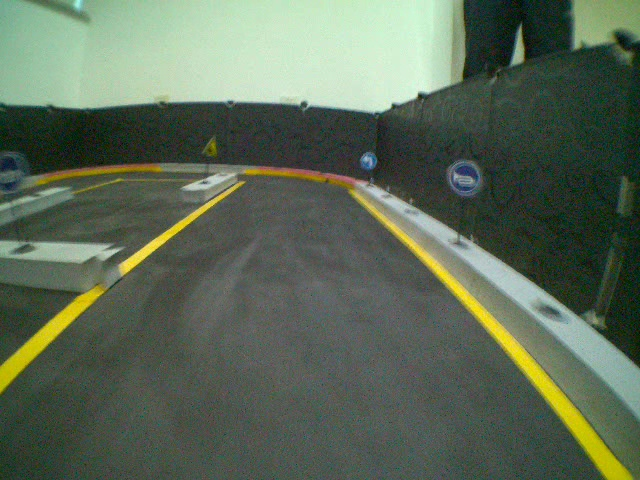fast: (201, 133, 219, 158)
horn: (448, 160, 482, 194)
turn: (360, 150, 378, 170)
